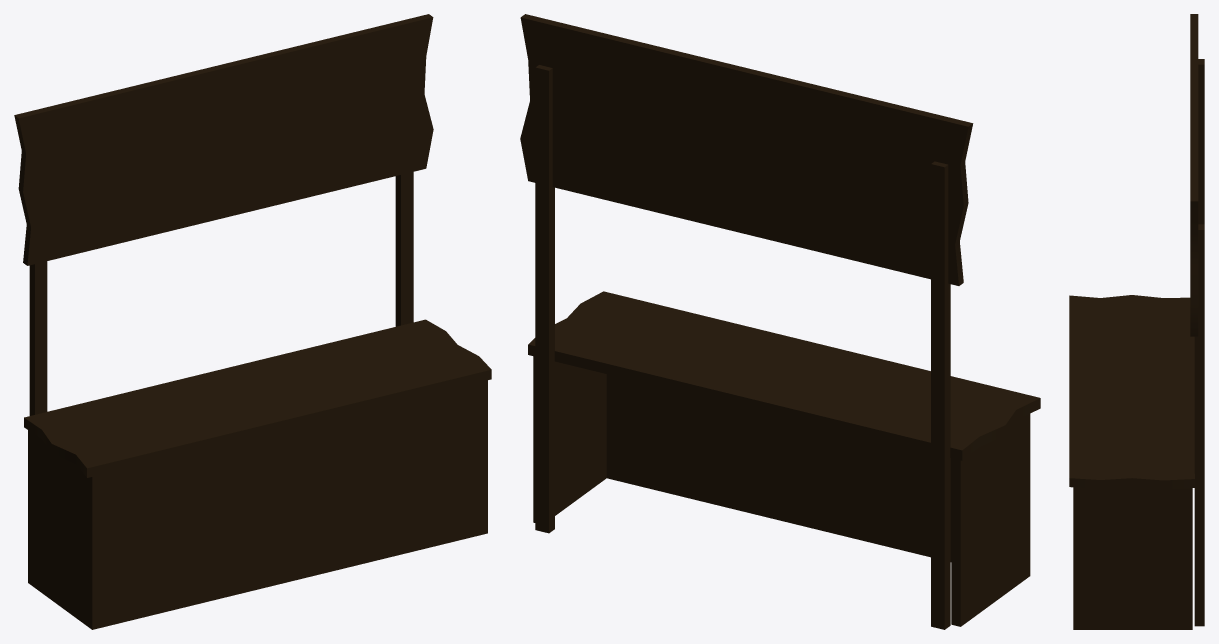
File: ToolShopGeo.obj
The picture shows the model from 3 angles, left to right: view 1: azimuth 30°, elevation 25°; view 2: azimuth 150°, elevation 25°; view 3: azimuth 270°, elevation 25°; orthographic projection. The views are drawn at different scales.
Visible parts, largest first — view 1: ToolShop; view 2: ToolShop; view 3: ToolShop.
Boxes of the visible parts, box(x1,y1,x2,y2) form: ToolShop: box(14, 14, 491, 629); ToolShop: box(520, 14, 1040, 629); ToolShop: box(1069, 14, 1204, 629).
Size of the model in its own units: 2.85 by 3.07 by 0.8712.
